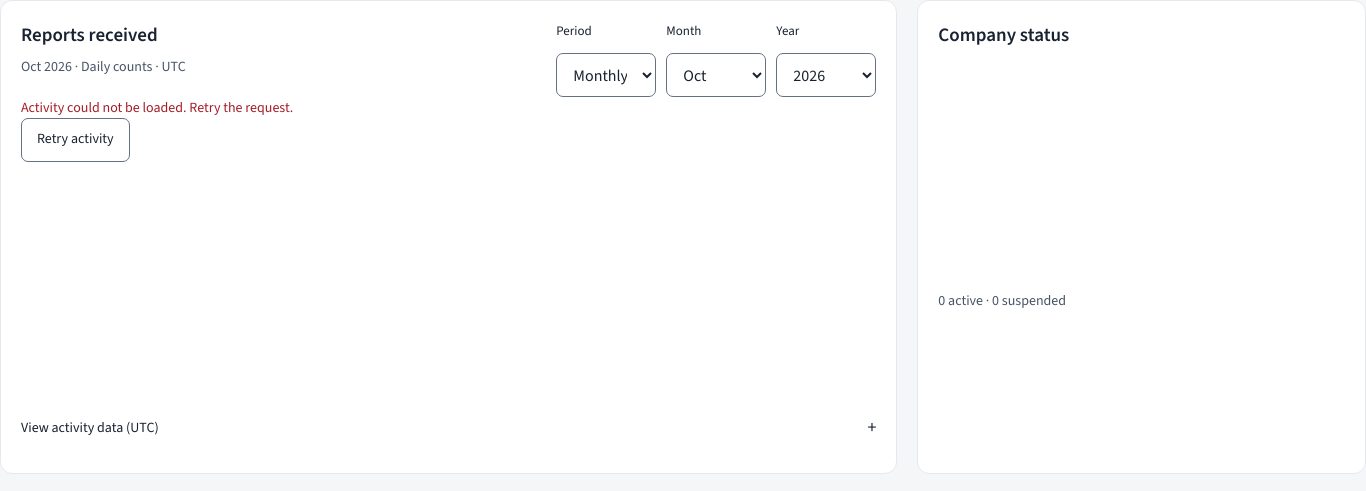
Scenario: retries an unavailable activity response
expect the message shows "Activity could not be loaded": met, box [21,98,293,116]
Click the button "Retry activity" at (75, 140), box [21,118,130,162]
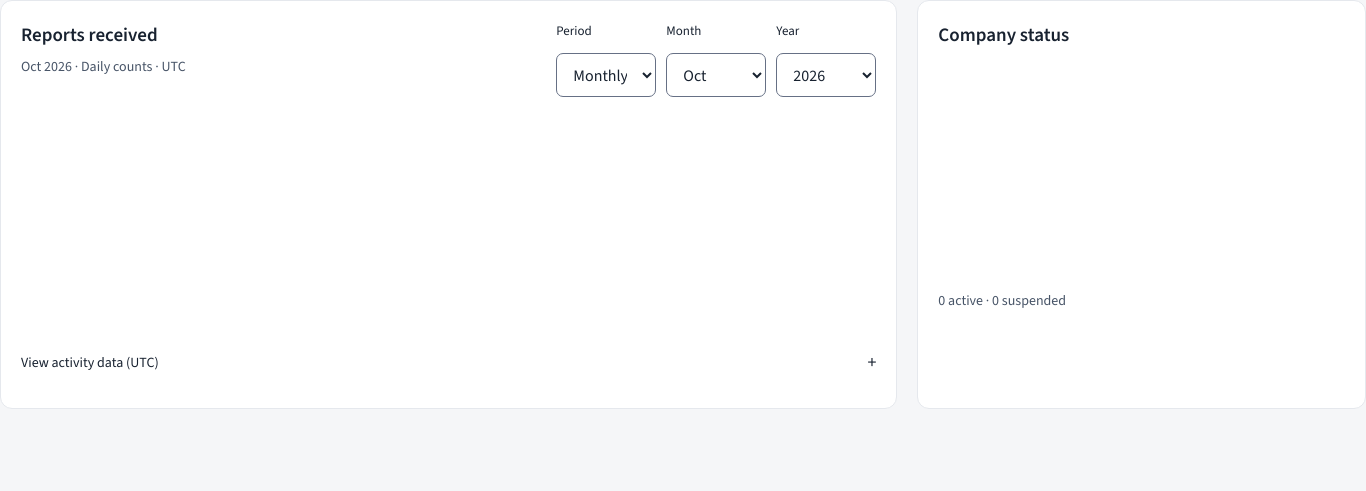
expect the message "Activity could not be loaded. Retry the request." is gone: met
